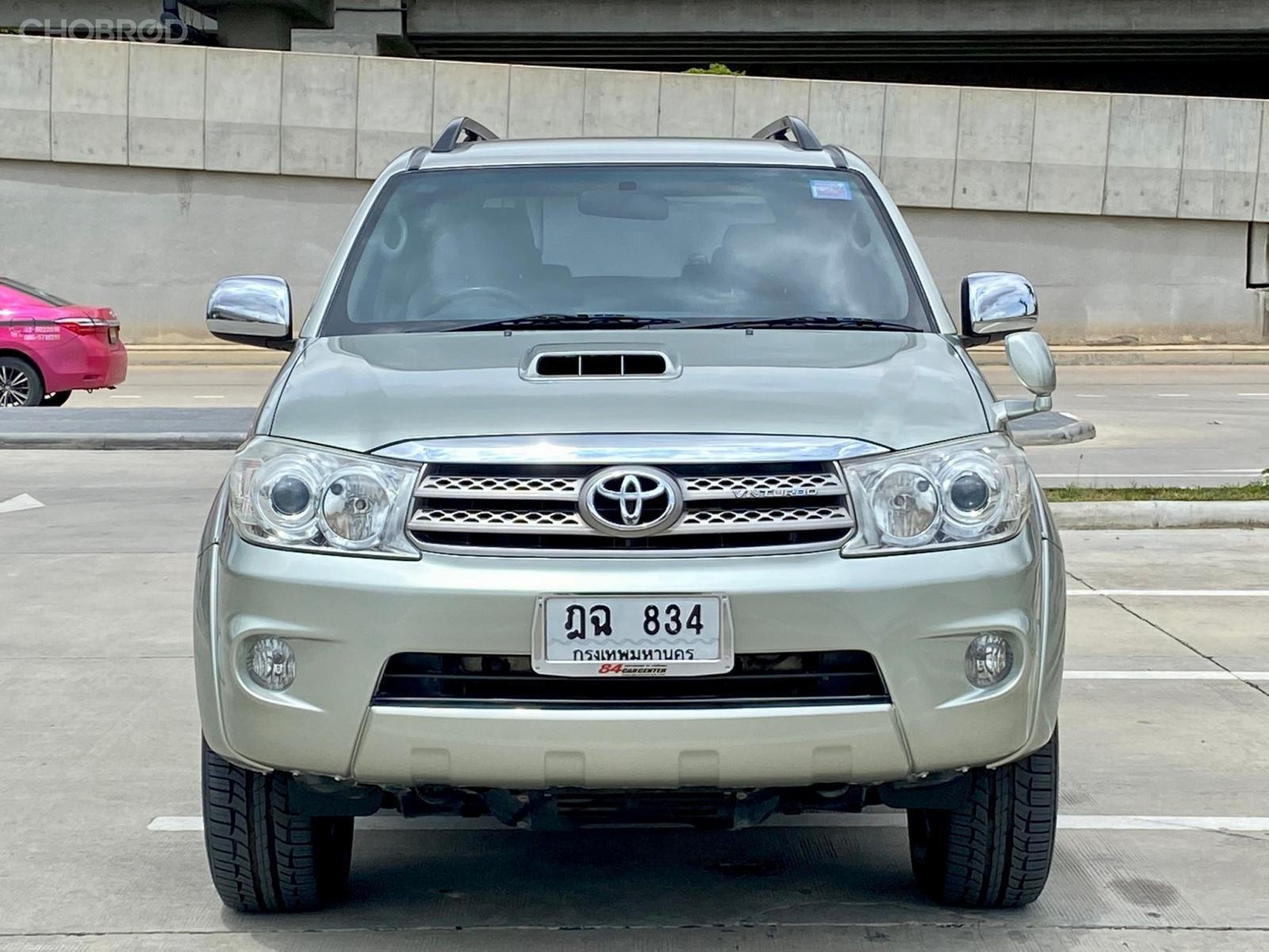license-plate: (525, 582, 747, 692)
